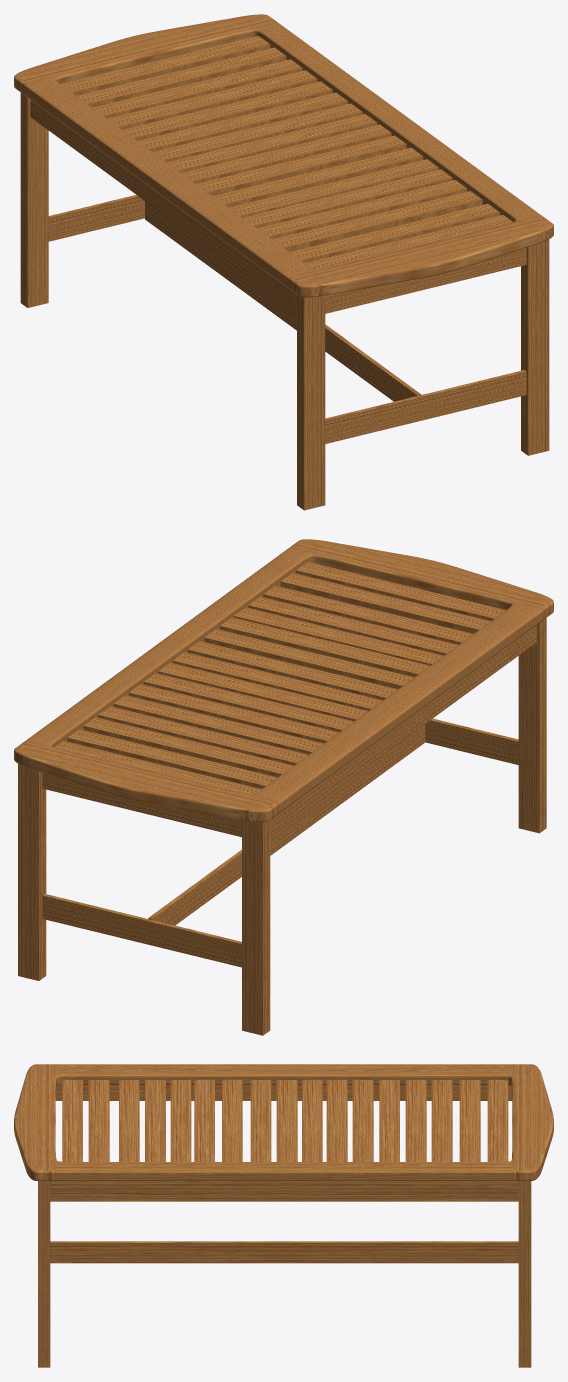
File: patiotable.fbx
3 views of the same model, one above another, from view 1: azimuth 30°, elevation 25°; view 2: azimuth 150°, elevation 25°; view 3: azimuth 270°, elevation 25° (orthographic). The views are drawn at different scales.
Visible parts, largest first — view 1: pCube12, pCube3 (×2), pCube5 (×2), pCube1, pCube7, pCube9, pCube25, pCube20, pCube22, pCube23, pCube28, pCube15 (+12 smaller); view 2: pCube12, pCube3 (×2), pCube5 (×2), pCube1, pCube7, pCube9, pCube24, pCube28, pCube13, pCube22, pCube29, pCube16 (+12 smaller); view 3: pCube12, pCube7, pCube8, pCube1 (×2), pCube9, pCube13, pCube14, pCube16, pCube17, pCube19, pCube20, pCube22 (+10 smaller).
Part boxes in pixels (bbox=[...]): pCube12: bbox=[14, 14, 553, 297]; pCube3 (×2): bbox=[20, 92, 325, 510]; pCube5 (×2): bbox=[48, 194, 526, 443]; pCube1: bbox=[521, 239, 549, 455]; pCube7: bbox=[145, 201, 421, 401]; pCube9: bbox=[30, 99, 296, 311]; pCube25: bbox=[272, 191, 482, 251]; pCube20: bbox=[197, 135, 406, 195]; pCube22: bbox=[76, 47, 286, 107]; pCube23: bbox=[60, 36, 270, 95]; pCube28: bbox=[213, 147, 423, 207]; pCube15: bbox=[122, 81, 332, 140]; pCube12: bbox=[14, 539, 553, 822]; pCube3 (×2): bbox=[242, 618, 546, 1035]; pCube5 (×2): bbox=[42, 718, 518, 967]; pCube1: bbox=[18, 763, 46, 980]; pCube7: bbox=[148, 724, 425, 925]; pCube9: bbox=[270, 625, 536, 836]; pCube24: bbox=[280, 573, 490, 633]; pCube28: bbox=[204, 629, 414, 688]; pCube13: bbox=[83, 717, 293, 777]; pCube22: bbox=[67, 729, 277, 788]; pCube29: bbox=[220, 617, 429, 676]; pCube16: bbox=[129, 684, 338, 743]; pCube12: bbox=[14, 1064, 553, 1180]; pCube7: bbox=[50, 1241, 518, 1263]; pCube8: bbox=[50, 1181, 518, 1201]; pCube1 (×2): bbox=[38, 1181, 531, 1367]; pCube9: bbox=[55, 1085, 512, 1100]; pCube13: bbox=[431, 1080, 452, 1161]; pCube14: bbox=[405, 1080, 426, 1161]; pCube16: bbox=[352, 1080, 373, 1161]; pCube17: bbox=[326, 1080, 347, 1161]; pCube19: bbox=[276, 1080, 297, 1161]; pCube20: bbox=[250, 1080, 271, 1161]; pCube22: bbox=[459, 1080, 480, 1161].
Bounding box in the file's own units: 1.39 × 1.19 × 2.94.
